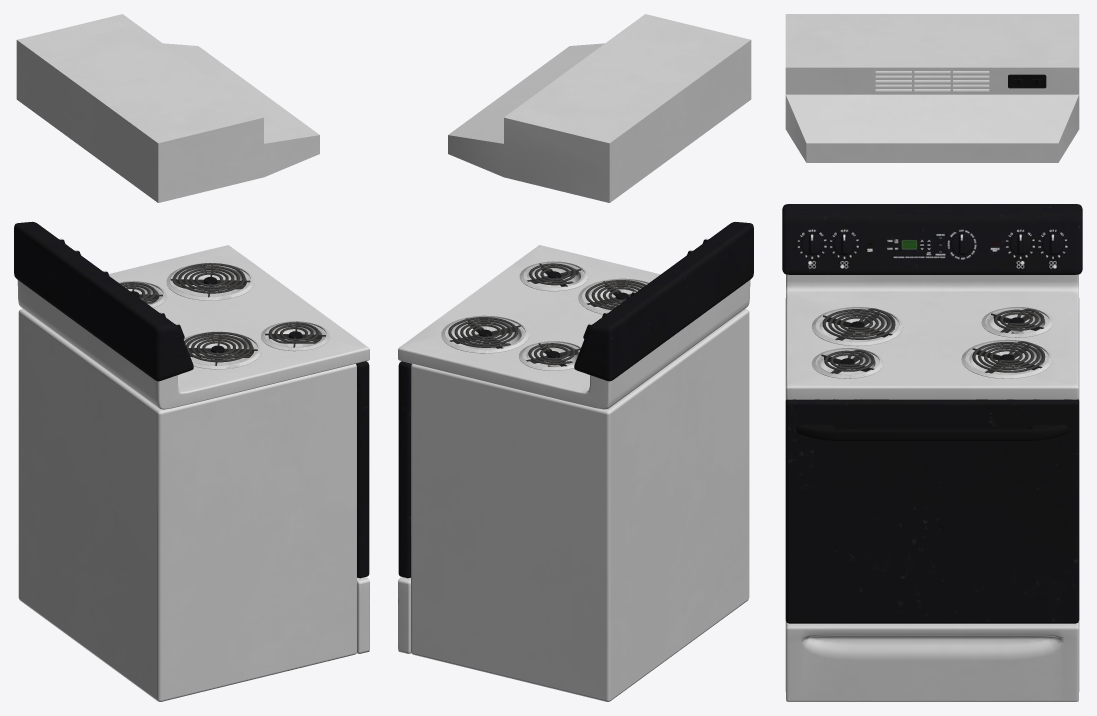
Rendered from stove.glb.
3 renders of one model, left to right at view 1: azimuth 30°, elevation 25°; view 2: azimuth 150°, elevation 25°; view 3: azimuth 270°, elevation 25°, orthographic. The views are drawn at different scales.
Parts seen in each view (by area): view 1: Stove_StoveBody_0, Stove_StoveControls_0; view 2: Stove_StoveBody_0, Stove_StoveControls_0; view 3: Stove_StoveControls_0, Stove_StoveBody_0.
Part boxes in pixels (bbox=[...]): Stove_StoveBody_0: bbox=[18, 290, 369, 701]; Stove_StoveControls_0: bbox=[14, 14, 369, 409]; Stove_StoveBody_0: bbox=[398, 282, 749, 701]; Stove_StoveControls_0: bbox=[398, 14, 753, 409]; Stove_StoveControls_0: bbox=[782, 14, 1082, 399]; Stove_StoveBody_0: bbox=[785, 71, 1079, 701].
Size of the model in its own units: 0.7112 by 1.67 by 0.7802.
Materials: 2 (2 with a texture image).
